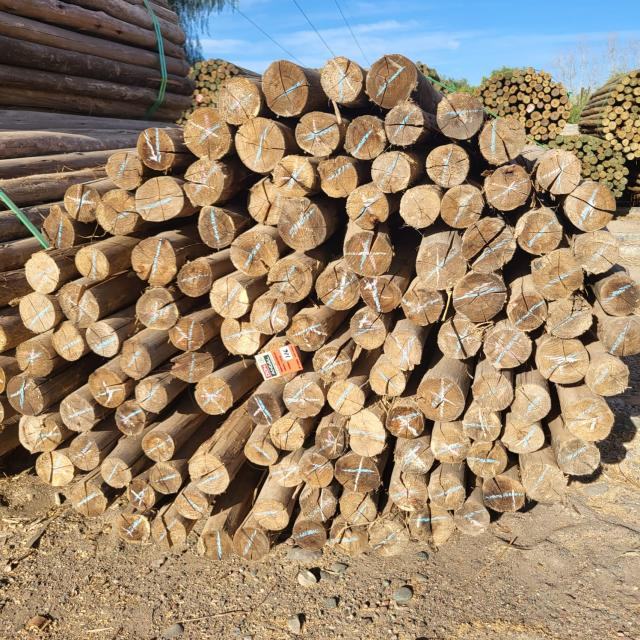package: (8, 54, 638, 558), (475, 64, 571, 142), (552, 134, 628, 199), (600, 69, 640, 158), (184, 61, 240, 112)
